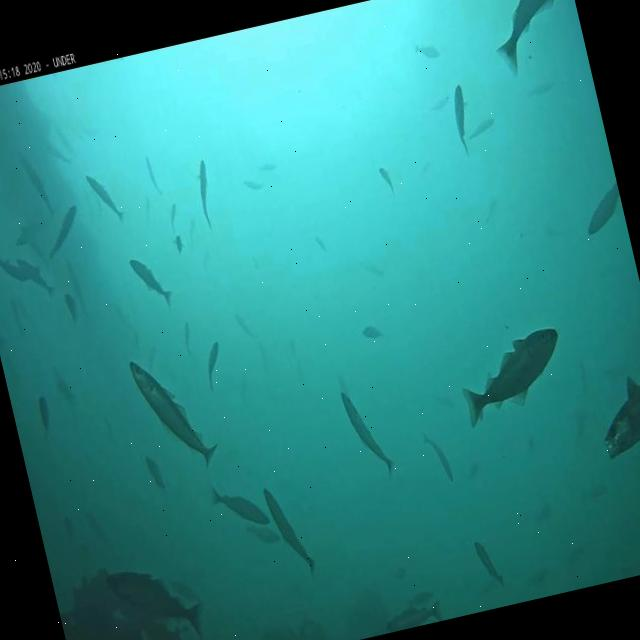fish: (452, 325, 576, 432), (128, 346, 222, 481), (105, 555, 207, 640), (481, 0, 587, 80), (339, 384, 398, 481), (262, 482, 318, 580), (590, 362, 640, 463), (209, 476, 271, 536), (129, 251, 175, 311), (18, 150, 54, 219), (39, 204, 84, 258), (578, 182, 624, 234), (446, 82, 477, 158), (190, 158, 220, 235), (18, 252, 54, 300), (424, 428, 454, 484), (474, 536, 504, 588), (200, 340, 227, 390), (0, 253, 42, 284), (144, 454, 169, 494), (42, 138, 72, 171), (143, 154, 161, 198), (13, 222, 46, 246), (466, 117, 496, 142), (378, 163, 396, 199), (360, 320, 386, 344), (526, 76, 554, 97), (62, 292, 80, 324), (414, 40, 441, 61), (139, 196, 155, 226), (179, 318, 194, 349), (165, 203, 180, 232), (313, 234, 330, 256), (243, 174, 263, 190), (184, 218, 198, 240), (258, 158, 277, 174), (172, 234, 185, 254), (0, 251, 9, 274)
